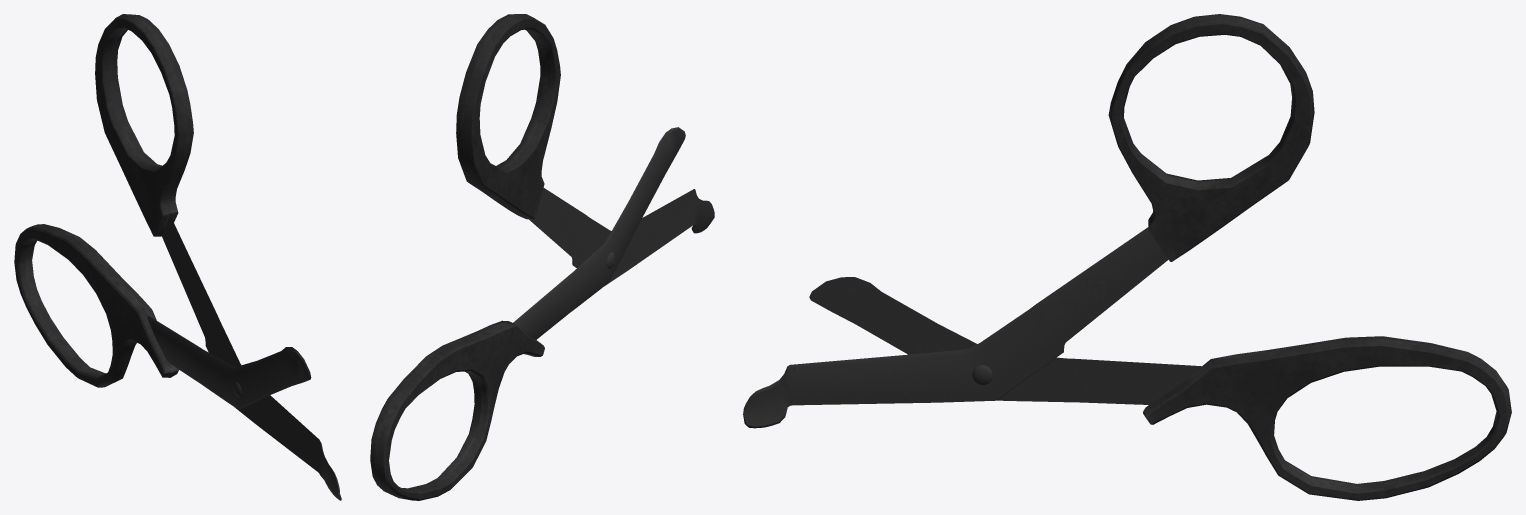
The model's file is Scissors.fbx.
3 views of the same model, side by side, from view 1: azimuth 30°, elevation 25°; view 2: azimuth 150°, elevation 25°; view 3: azimuth 270°, elevation 25° (orthographic). The views are drawn at different scales.
Visible parts, largest first — view 1: Плоскость, Плоскость.003; view 2: Плоскость, Плоскость.003; view 3: Плоскость, Плоскость.003.
Part boxes in pixels (left/top/right/bottom): Плоскость: left=95, top=14, right=341, bottom=500; Плоскость.003: left=14, top=224, right=311, bottom=409; Плоскость: left=456, top=14, right=714, bottom=286; Плоскость.003: left=370, top=127, right=685, bottom=500; Плоскость: left=743, top=14, right=1314, bottom=428; Плоскость.003: left=809, top=277, right=1511, bottom=500.
Bounding box in the file's own units: 36.81 × 891 × 1286.
